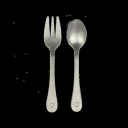fork: (35, 16, 66, 111)
